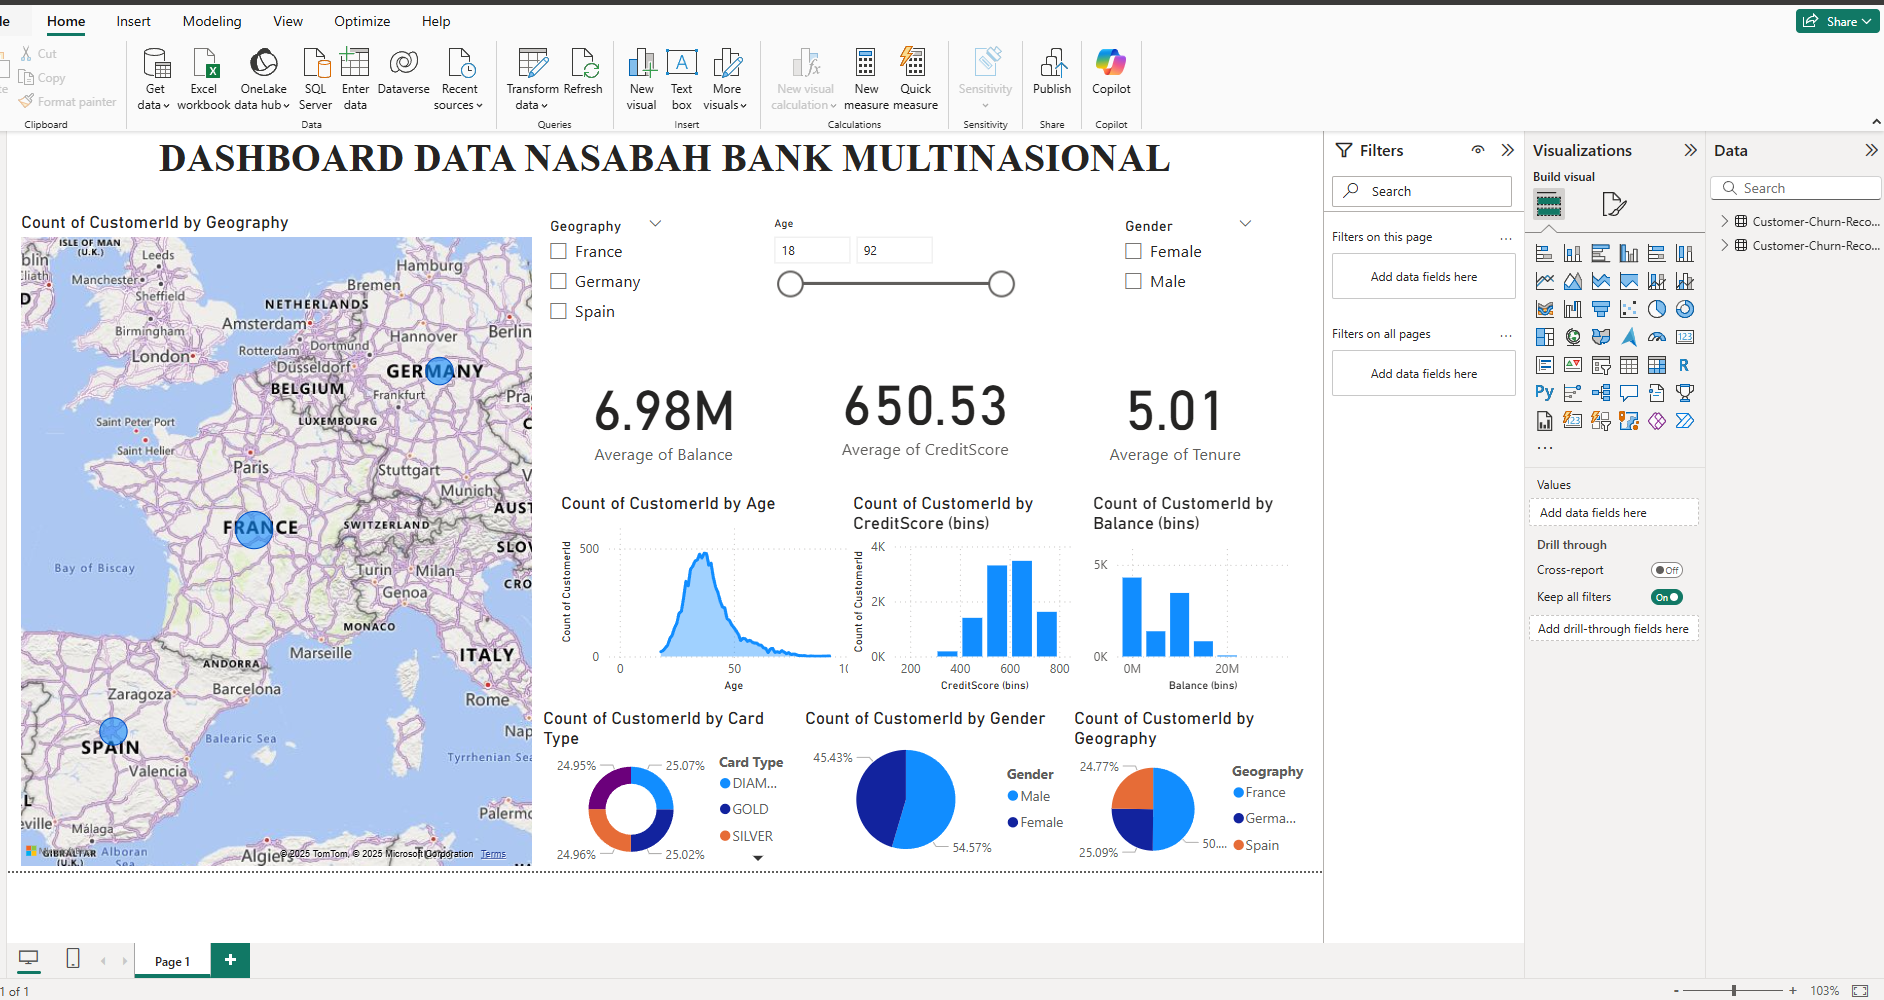

Layout of this report page (visuals, bound fields, positions):
{"tool":"powerbi","page":{"name":"Page 1","canvas":[1280,720],"ordinal":0},"visuals":[{"type":"slicer","fields":{"Values":["Customer-Churn-Records (2).Geography"]},"box":[515.5,78.8,134.2,118.7],"z":0},{"type":"slicer","fields":{"Values":["Customer-Churn-Records (2).Age"]},"box":[733.4,78.8,254.8,118.7],"z":1000},{"type":"map","fields":{"Category":["Customer-Churn-Records (2).Geography"],"Size":["CountNonNull(Customer-Churn-Records (2).CustomerId)"]},"box":[8.8,78.8,506.7,641],"z":2000},{"type":"slicer","fields":{"Values":["Customer-Churn-Records (2).Gender"]},"box":[1074.8,78.8,148.8,118.7],"z":3000},{"type":"card","fields":{"Values":["Avg(Customer-Churn-Records (2).Balance)"]},"box":[527,198,223,154],"z":4000},{"type":"card","fields":{"Values":["Avg(Customer-Churn-Records (2).CreditScore)"]},"box":[778,190,230,162],"z":5000},{"type":"card","fields":{"Values":["Avg(Customer-Churn-Records (2).Tenure)"]},"box":[1021,198,230,154],"z":6000},{"type":"donutChart","fields":{"Category":["Customer-Churn-Records (2).Card Type"],"Y":["CountNonNull(Customer-Churn-Records (2).CustomerId)"]},"box":[516,561,255,159],"z":7000},{"type":"pieChart","fields":{"Category":["Customer-Churn-Records (2).Gender"],"Y":["CountNonNull(Customer-Churn-Records (2).CustomerId)"]},"box":[771,561,272,159],"z":8000},{"type":"areaChart","fields":{"Category":["Customer-Churn-Records (2).Age"],"Y":["CountNonNull(Customer-Churn-Records (2).CustomerId)"]},"box":[534,352,299,198],"z":9000},{"type":"columnChart","fields":{"Category":["Customer-Churn-Records (2).CreditScore (bins)"],"Y":["CountNonNull(Customer-Churn-Records (2).CustomerId)"]},"box":[818,352,225,198],"z":10000},{"type":"clusteredColumnChart","fields":{"Y":["CountNonNull(Customer-Churn-Records (2).CustomerId)"],"Category":["Customer-Churn-Records (2).Balance (bins)"]},"box":[1051,352,200,198],"z":11000},{"type":"textbox","box":[0,0,1280,79],"z":13000},{"type":"pieChart","fields":{"Category":["Customer-Churn-Records (2).Geography"],"Y":["CountNonNull(Customer-Churn-Records (2).CustomerId)"]},"box":[1033.3,561.1,246.7,158.9],"z":13001}]}

Visuals, with their boxes on the page's 1280x720 design canvas (x1, y1, x2, y2). These are canvas units, not pixel positions in the 1884x1000 screenshot, which may show the page scaled, cropped or inside an application window:
slicer - Customer-Churn-Records (2).Geography: [516,79,650,198]
slicer - Customer-Churn-Records (2).Age: [733,79,988,198]
map - Customer-Churn-Records (2).Geography x CountNonNull(Customer-Churn-Records (2).CustomerId): [9,79,516,720]
slicer - Customer-Churn-Records (2).Gender: [1075,79,1224,198]
card - Avg(Customer-Churn-Records (2).Balance): [527,198,750,352]
card - Avg(Customer-Churn-Records (2).CreditScore): [778,190,1008,352]
card - Avg(Customer-Churn-Records (2).Tenure): [1021,198,1251,352]
donutChart - Customer-Churn-Records (2).Card Type x CountNonNull(Customer-Churn-Records (2).CustomerId): [516,561,771,720]
pieChart - Customer-Churn-Records (2).Gender x CountNonNull(Customer-Churn-Records (2).CustomerId): [771,561,1043,720]
areaChart - Customer-Churn-Records (2).Age x CountNonNull(Customer-Churn-Records (2).CustomerId): [534,352,833,550]
columnChart - Customer-Churn-Records (2).CreditScore (bins) x CountNonNull(Customer-Churn-Records (2).CustomerId): [818,352,1043,550]
clusteredColumnChart - CountNonNull(Customer-Churn-Records (2).CustomerId) x Customer-Churn-Records (2).Balance (bins): [1051,352,1251,550]
textbox: [0,0,1280,79]
pieChart - Customer-Churn-Records (2).Geography x CountNonNull(Customer-Churn-Records (2).CustomerId): [1033,561,1280,720]
